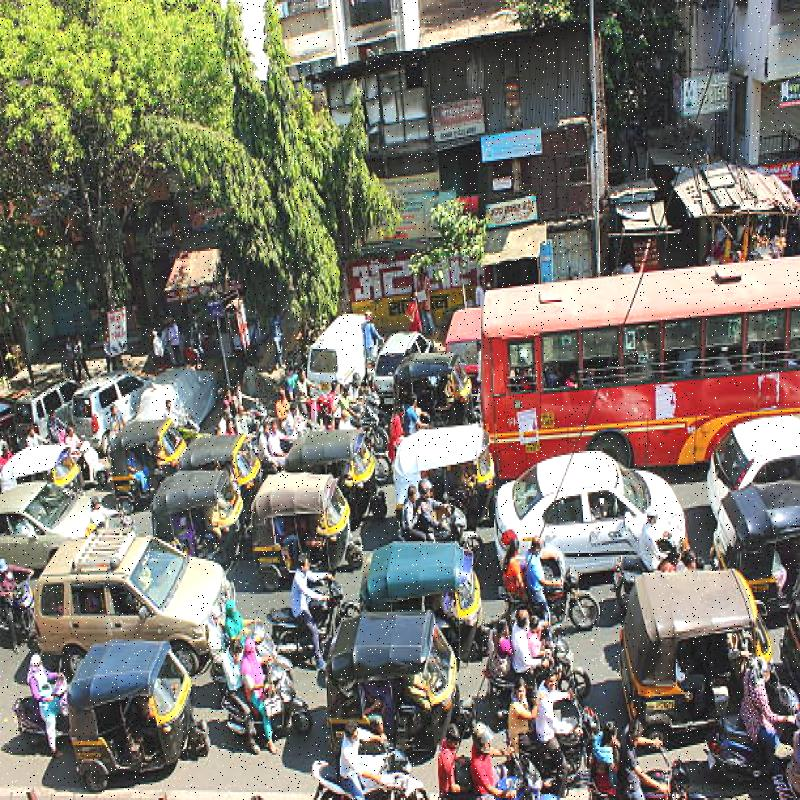auto: (320, 608, 494, 742), (623, 573, 778, 708), (58, 659, 207, 764), (398, 420, 500, 510), (234, 483, 351, 560), (154, 461, 246, 546), (292, 422, 391, 490), (103, 432, 190, 487), (184, 428, 249, 494)
car: (510, 455, 665, 573)
